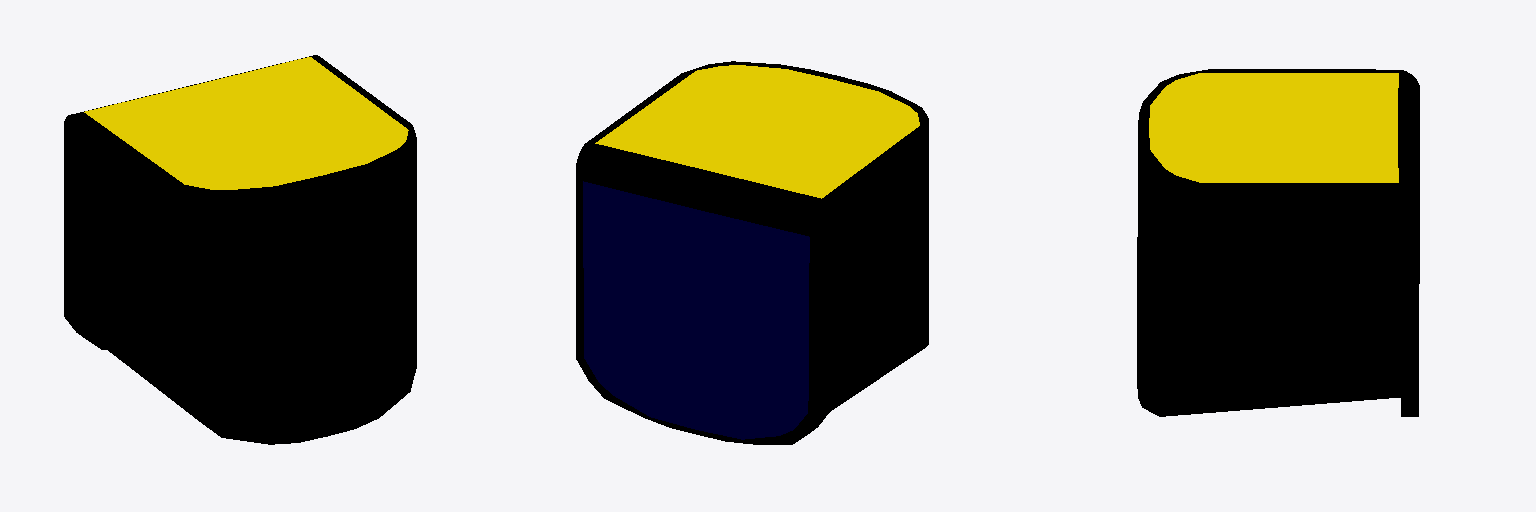
The model's file is edgeYB.obj.
The picture shows the model from 3 angles: view 1: azimuth 30°, elevation 25°; view 2: azimuth 150°, elevation 25°; view 3: azimuth 270°, elevation 25°; orthographic projection.
Parts seen in each view (by area): view 1: BasicEdge_Plane.006, EdgeSide1_Plane.008; view 2: EdgeSide2_Plane.009, BasicEdge_Plane.006, EdgeSide1_Plane.008; view 3: BasicEdge_Plane.006, EdgeSide1_Plane.008.
Part boxes in pixels (bbox=[...]): BasicEdge_Plane.006: bbox=[64, 55, 416, 444]; EdgeSide1_Plane.008: bbox=[84, 57, 408, 189]; EdgeSide2_Plane.009: bbox=[583, 181, 809, 439]; BasicEdge_Plane.006: bbox=[576, 61, 928, 444]; EdgeSide1_Plane.008: bbox=[595, 65, 919, 198]; BasicEdge_Plane.006: bbox=[1137, 69, 1419, 416]; EdgeSide1_Plane.008: bbox=[1149, 73, 1398, 182].
Bounding box in the file's own units: 0.18 × 0.1802 × 0.182.